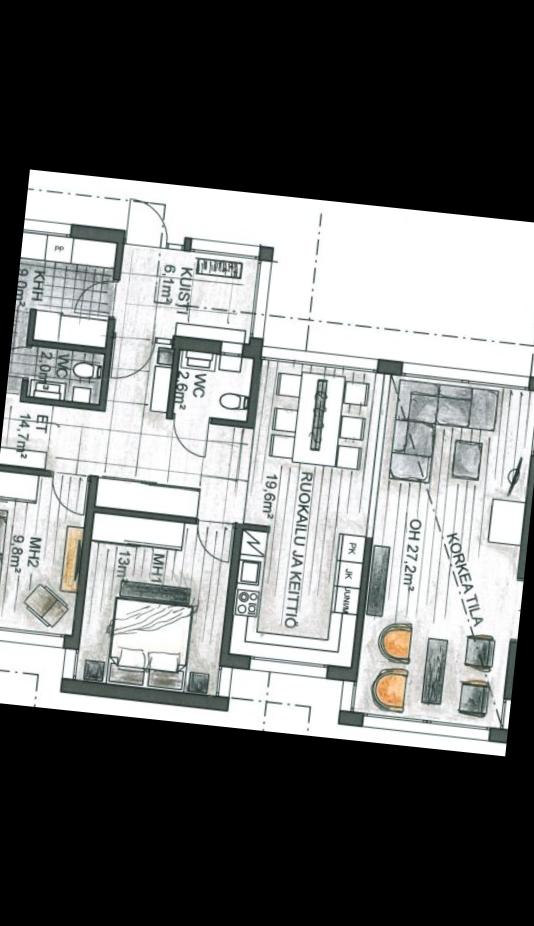door: (104, 330, 157, 384), (122, 198, 171, 252), (44, 468, 93, 520), (187, 516, 237, 566), (70, 275, 118, 321), (164, 413, 210, 459), (508, 607, 520, 643), (511, 578, 523, 610)
window: (390, 360, 534, 392), (250, 342, 382, 375), (354, 714, 493, 743), (247, 254, 278, 346), (241, 654, 331, 682), (184, 236, 266, 262), (0, 624, 69, 650), (23, 214, 78, 237), (59, 639, 79, 685), (214, 662, 235, 703), (527, 384, 534, 465), (497, 696, 511, 732)
